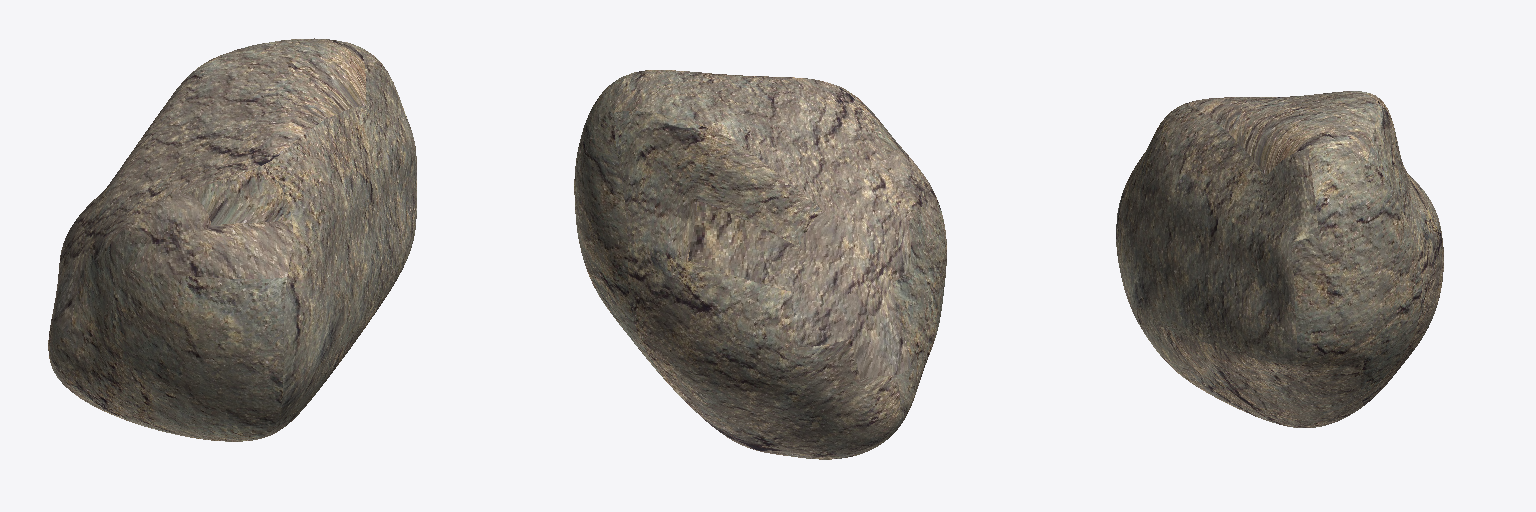
The picture shows the model from 3 angles: view 1: azimuth 30°, elevation 25°; view 2: azimuth 150°, elevation 25°; view 3: azimuth 270°, elevation 25°; orthographic projection.
Parts seen in each view (by area): view 1: Rock.Landscape.Style_3_Rock.Landscape.Style_3.Mesh; view 2: Rock.Landscape.Style_3_Rock.Landscape.Style_3.Mesh; view 3: Rock.Landscape.Style_3_Rock.Landscape.Style_3.Mesh.
Boxes of the visible parts, box(x1,y1,x2,y2) form: Rock.Landscape.Style_3_Rock.Landscape.Style_3.Mesh: box(48, 38, 416, 441); Rock.Landscape.Style_3_Rock.Landscape.Style_3.Mesh: box(574, 70, 946, 459); Rock.Landscape.Style_3_Rock.Landscape.Style_3.Mesh: box(1116, 91, 1443, 427).
Bounding box in the file's own units: 2.53 × 2.49 × 2.11.
Materials: 1 (1 with a texture image).